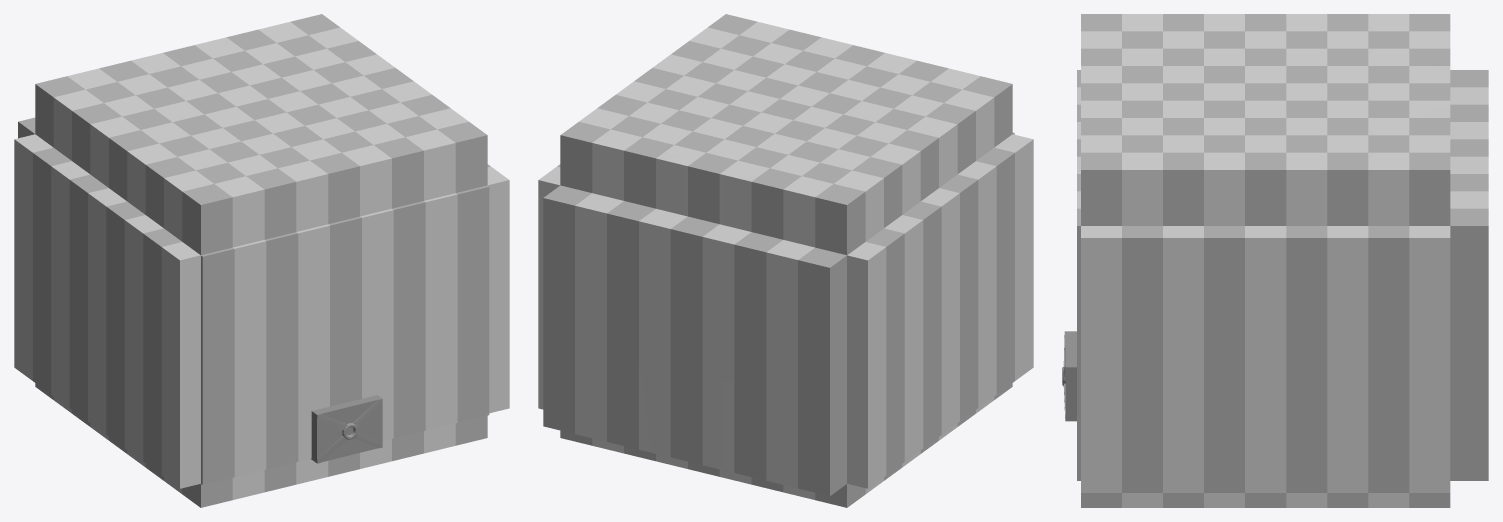
The model's file is StartRoomYongCollider.fbx.
3 views of the same model, side by side, from view 1: azimuth 30°, elevation 25°; view 2: azimuth 150°, elevation 25°; view 3: azimuth 270°, elevation 25° (orthographic). The views are drawn at different scales.
Parts seen in each view (by area): view 1: Cube.004, Cube.006, Cube.007, Cube.003, Cube.005, Door.004; view 2: Cube.008, Cube.004, Cube.007, Cube.003, Cube.005; view 3: Cube.005, Cube.004, Cube.008, Cube.003, Cube.006, Door.004.
Part boxes in pixels (x1,y1,x2,y2): Cube.004: (35,14,487,255); Cube.006: (201,185,489,484); Cube.007: (14,134,200,488); Cube.003: (35,383,487,507); Cube.005: (487,164,509,413); Door.004: (311,395,382,463); Cube.008: (543,185,846,496); Cube.004: (560,14,1012,255); Cube.007: (847,134,1033,488); Cube.003: (560,383,1012,507); Cube.005: (538,164,560,409); Cube.005: (1081,226,1450,492); Cube.004: (1081,14,1450,225); Cube.008: (1450,70,1488,480); Cube.003: (1081,493,1450,507); Cube.006: (1077,70,1080,480); Door.004: (1062,331,1076,421).
Bounding box in the file's own units: 7329 × 6437 × 7358.
